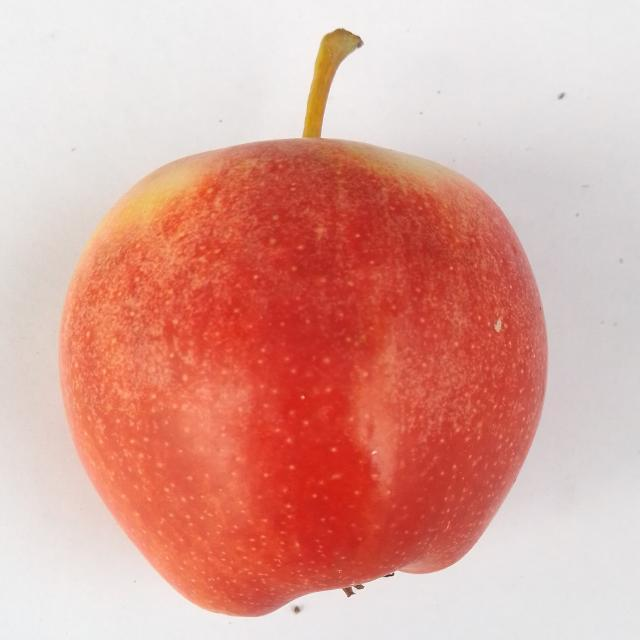Fresh Apple: (79, 145, 538, 615)
